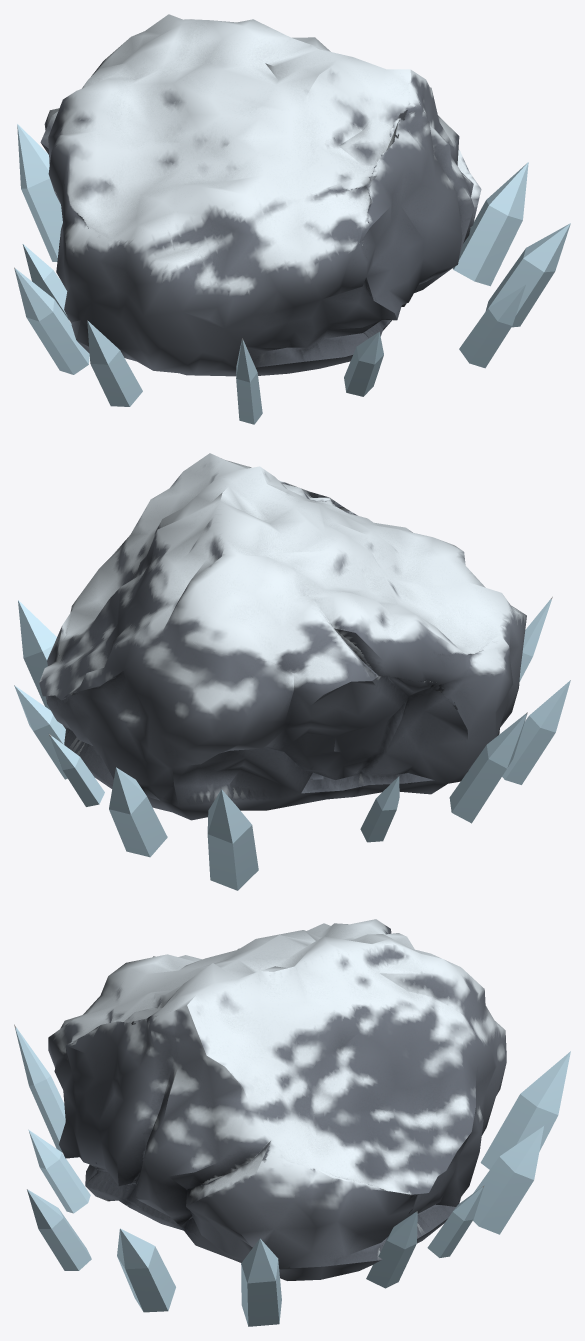
File: roca_helada.fbx
The picture shows the model from 3 angles, top to bottom: view 1: azimuth 30°, elevation 25°; view 2: azimuth 150°, elevation 25°; view 3: azimuth 270°, elevation 25°; orthographic projection.
Parts seen in each view (by area): view 1: roca_helada, roca_helada_cristal; view 2: roca_helada, roca_helada_cristal; view 3: roca_helada, roca_helada_cristal.
Part boxes in pixels (x1,y1,x2,y2): roca_helada: (40,14,481,376); roca_helada_cristal: (14,124,570,424); roca_helada: (39,453,526,820); roca_helada_cristal: (14,596,570,890); roca_helada: (48,919,506,1280); roca_helada_cristal: (14,1024,570,1326).
Bounding box in the file's own units: 2.87 × 1.51 × 2.7.
Materials: 2 (2 with a texture image).
